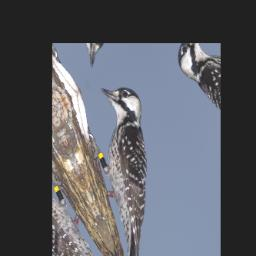Woodpecker: (60, 67, 201, 256)
